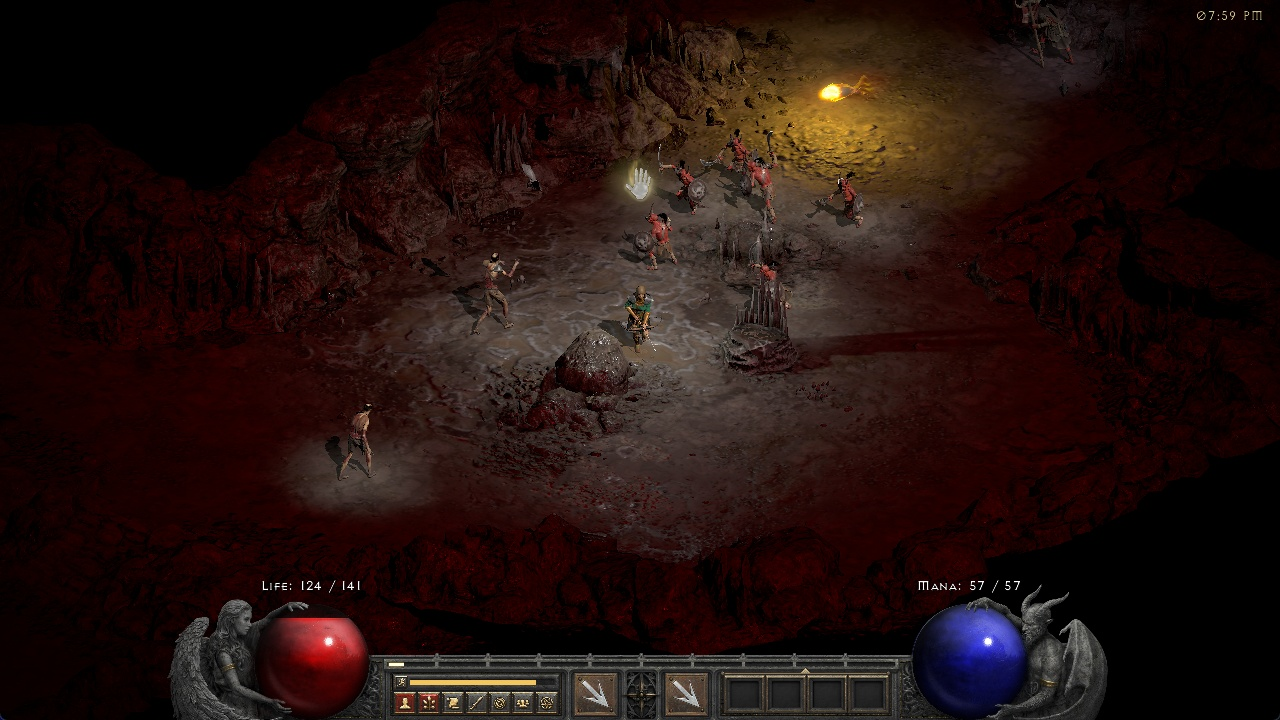fallen: (650, 144, 705, 205), (746, 142, 783, 221), (817, 171, 868, 228), (637, 210, 675, 268), (711, 128, 745, 188), (743, 248, 778, 279)
